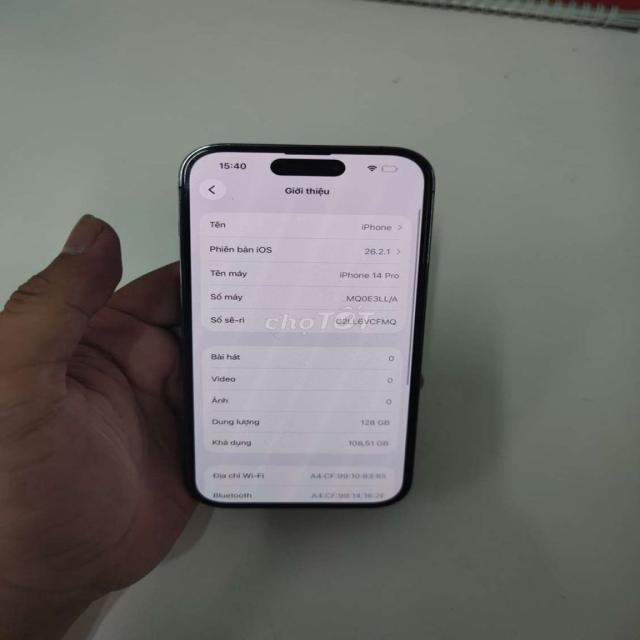gen_14: (164, 143, 433, 519)
